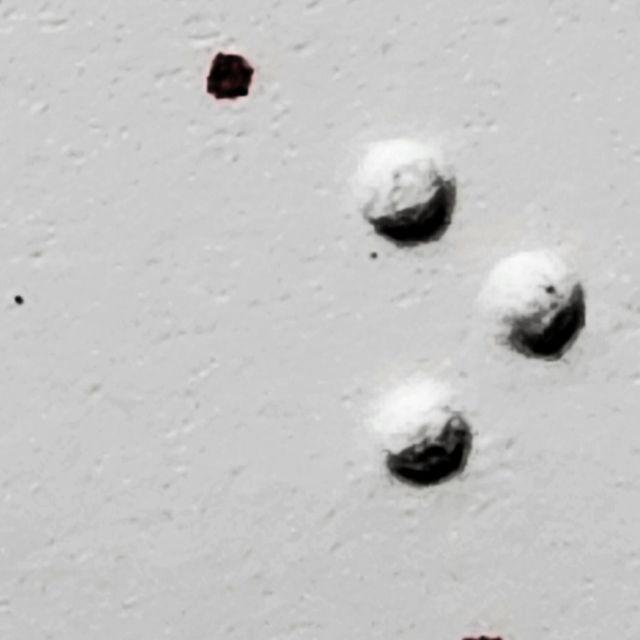o: (362, 136, 586, 489)
